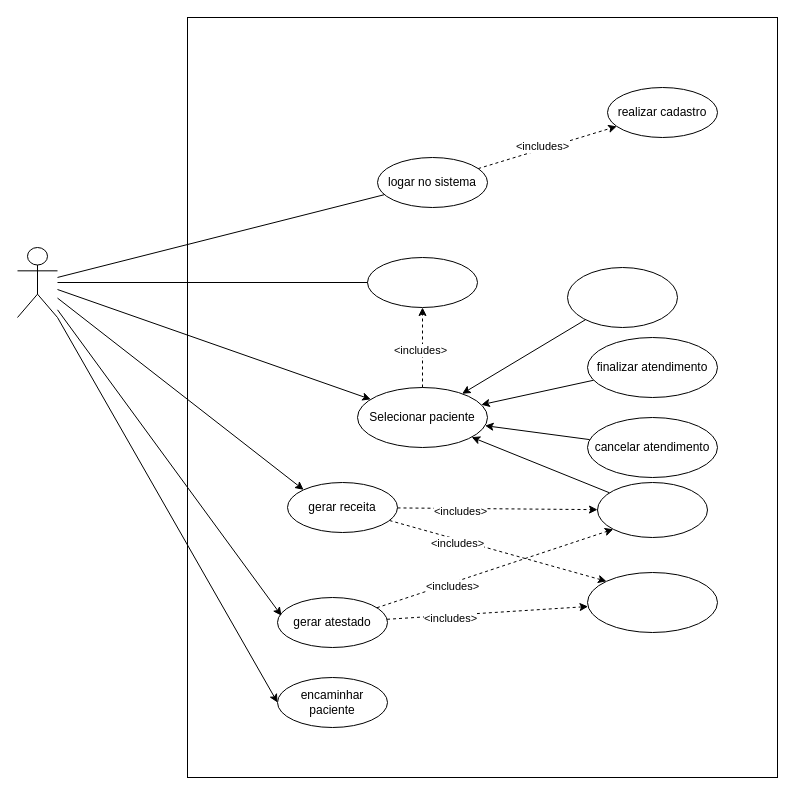
This 795x795 diagram has some shape labels left out. The shapes that lost their labels are listed below. From the top down, each one's centre as x and y in pixels, then its label:
At (x=37, y=282): "doctor".
At (x=422, y=282): "visualizar fila de pacientes".
At (x=622, y=297): "Visualizar dados do paciente".
At (x=652, y=510): "Iniciar atendimento".
At (x=652, y=602): "autenticar documento".
